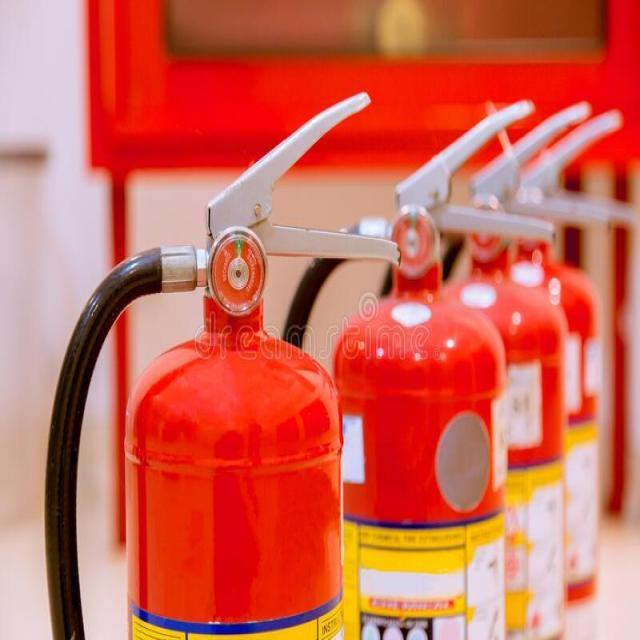fire_extinguisher: (38, 81, 412, 638), (264, 92, 559, 639), (373, 95, 614, 639)
